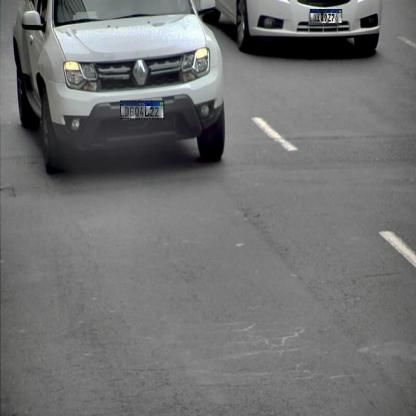PlacaM: (120, 101, 164, 119), (310, 9, 342, 24)
